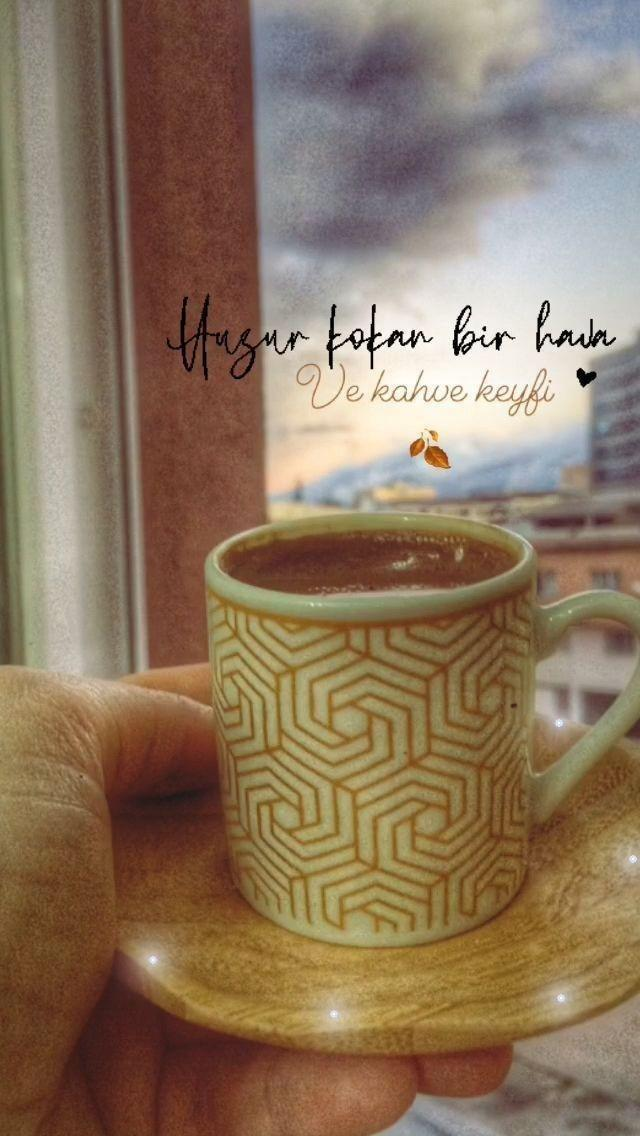cup-handle: (207, 508, 639, 943)
